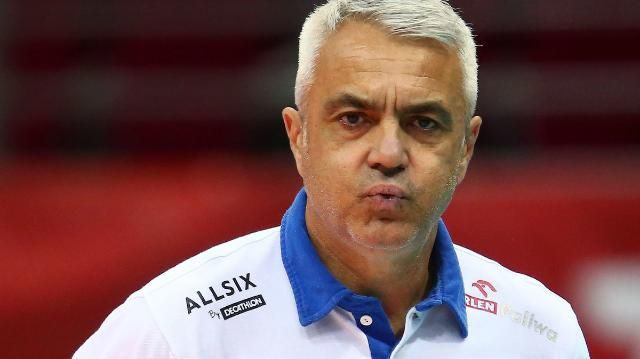forehead: (353, 66, 389, 78), (376, 48, 394, 66), (415, 73, 437, 85), (341, 53, 361, 63)
frown_line: (382, 83, 398, 115)
